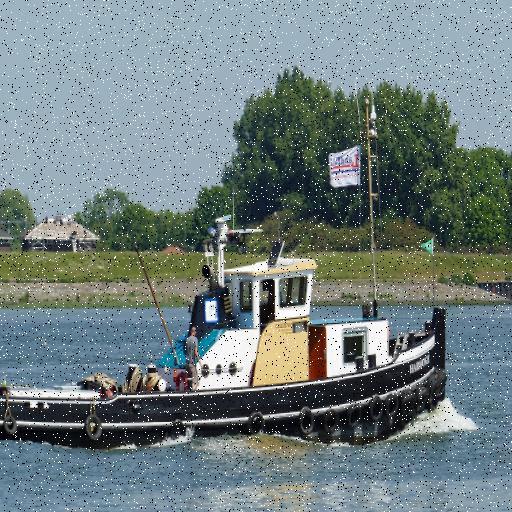tugboat: (1, 211, 458, 462)
